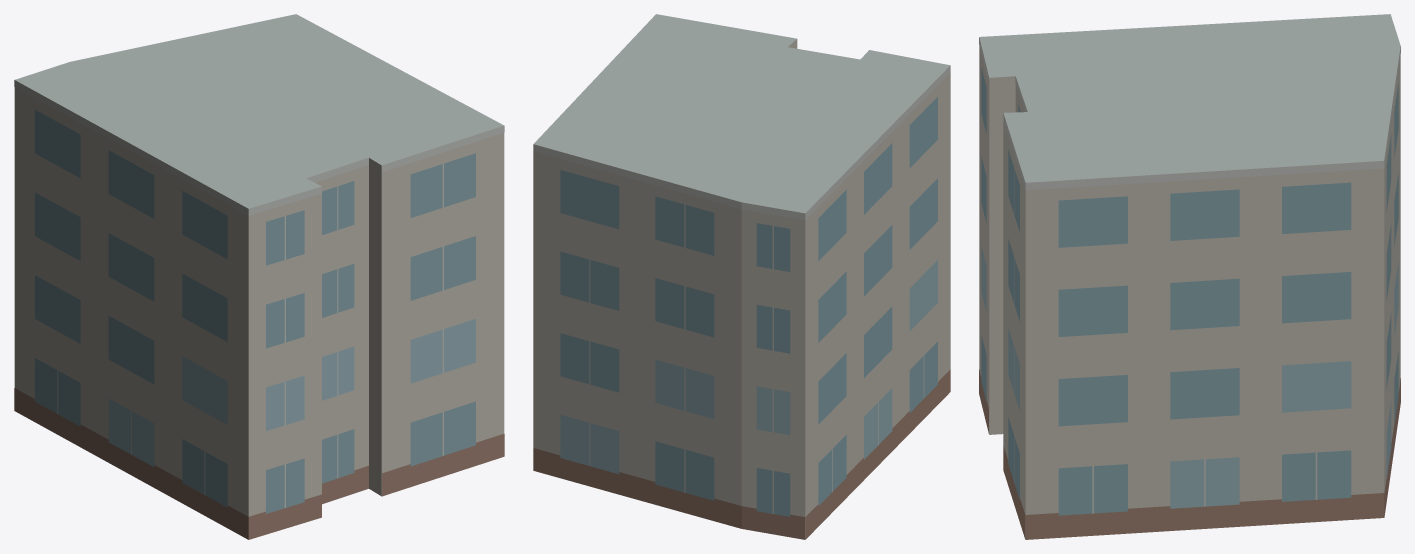
Rendered from survey-upis-32564451.glb.
3 views of the same model, side by side, from view 1: azimuth 30°, elevation 25°; view 2: azimuth 150°, elevation 25°; view 3: azimuth 270°, elevation 25° (orthographic). The views are drawn at different scales.
Parts seen in each view (by area): view 1: survey-upis-32564451.tmp; view 2: survey-upis-32564451.tmp; view 3: survey-upis-32564451.tmp.
Part boxes in pixels (x1,y1,x2,y2): survey-upis-32564451.tmp: (14, 14, 504, 539); survey-upis-32564451.tmp: (533, 14, 950, 539); survey-upis-32564451.tmp: (979, 14, 1400, 539).
Bounding box in the file's own units: 11.74 × 11.57 × 12.39.
